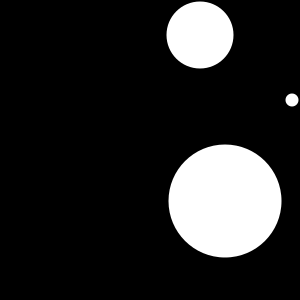rectangle: (168, 144, 282, 258), (166, 2, 234, 68), (286, 94, 299, 106)
